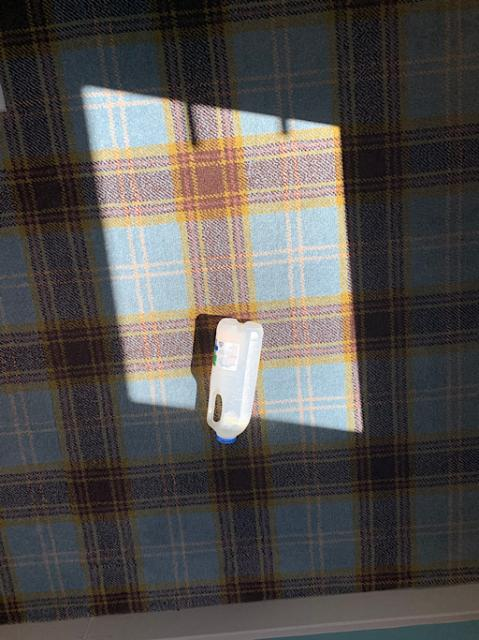plastic: (206, 318, 261, 441)
